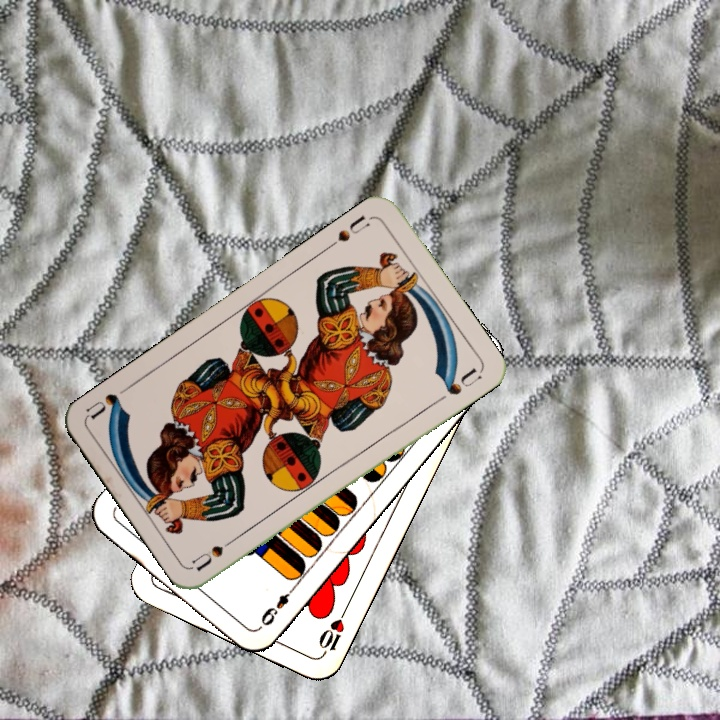E9: (256, 581, 299, 629)
H10: (314, 605, 350, 660)
SU: (188, 531, 243, 575), (323, 211, 373, 252)
